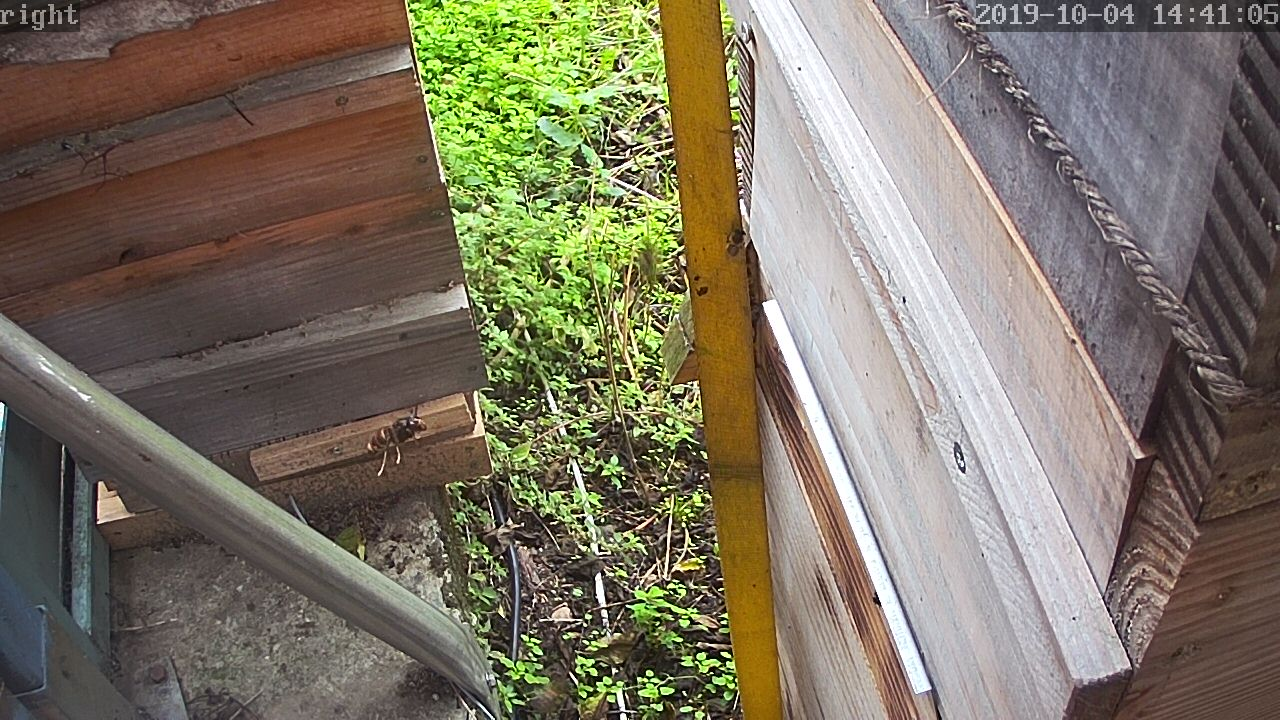bee: (724, 225, 750, 259)
hornet: (363, 410, 437, 466)
